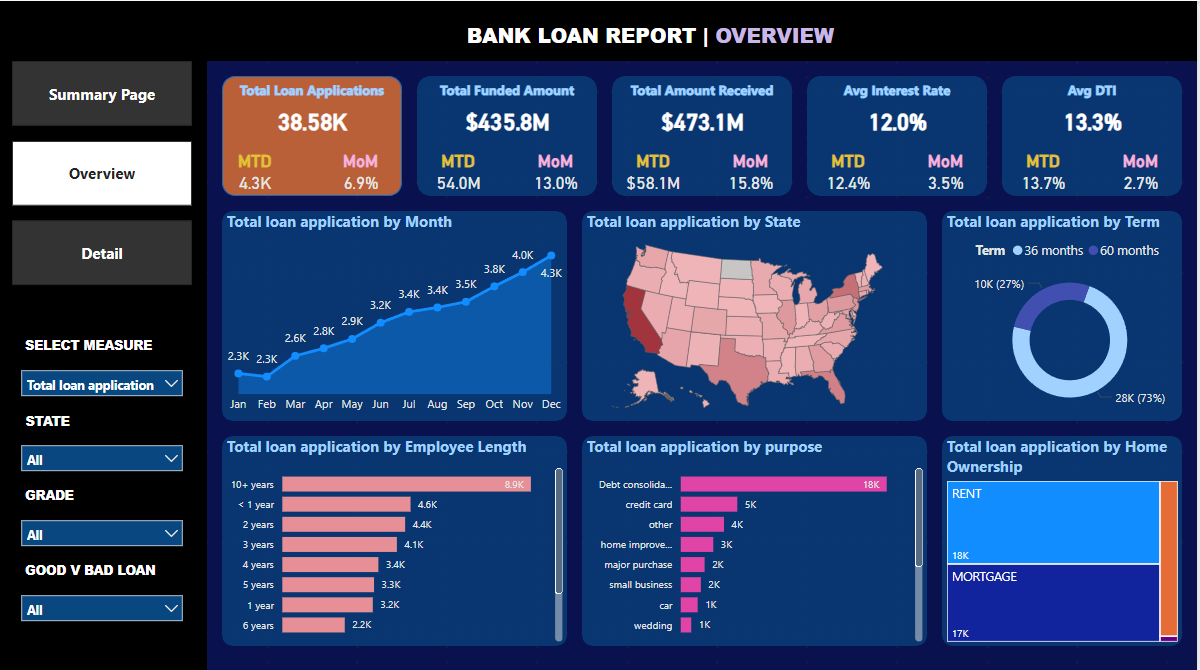

The dashboard page shown, as its layout file describes it:
{"tool":"powerbi","page":{"name":"Overview","canvas":[1280,720],"ordinal":1},"visuals":[{"type":"shape","box":[0,48,224,672],"z":0},{"type":"shape","box":[240,80,192,128],"z":0,"group":"g1"},{"type":"shape","box":[448,80,192,128],"z":0,"group":"g2"},{"type":"shape","box":[656,80,192,128],"z":0,"group":"g3"},{"type":"shape","box":[864,80,192,128],"z":0,"group":"g4"},{"type":"shape","box":[1072,80,192,128],"z":0,"group":"g5"},{"type":"shape","box":[240,224,368,224],"z":1000},{"type":"shape","box":[624,224,368,224],"z":2000},{"type":"shape","box":[0,0,1280,64],"z":3000},{"type":"textbox","box":[496,16,416,48],"z":4000},{"type":"card","fields":{"Values":["bank_loan.Total loan application"]},"box":[274.9,112,122.2,32],"z":4000,"group":"g1"},{"type":"card","fields":{"Values":["bank_loan.Total funded amount"]},"box":[482.9,112,122.2,32],"z":4000,"group":"g2"},{"type":"card","fields":{"Values":["bank_loan.Total amount received"]},"box":[690.9,112,122.2,32],"z":4000,"group":"g3"},{"type":"card","fields":{"Values":["bank_loan.avg int rate"]},"box":[898.9,112,122.2,32],"z":4000,"group":"g4"},{"type":"card","fields":{"Values":["bank_loan.Avg Dti"]},"box":[1106.9,112,122.2,32],"z":4000,"group":"g5"},{"type":"group","id":"g1","title":"Group 1","box":[240,80,192,128],"z":5000},{"type":"textbox","box":[240,80,192,32],"z":5000,"group":"g1"},{"type":"textbox","box":[448,80,192,32],"z":5000,"group":"g2"},{"type":"textbox","box":[656,80,192,32],"z":5000,"group":"g3"},{"type":"textbox","box":[864,80,192,32],"z":5000,"group":"g4"},{"type":"textbox","box":[1072,80,192,32],"z":5000,"group":"g5"},{"type":"group","id":"g2","title":"Group 2","box":[448,80,192,128],"z":6000},{"type":"card","title":"MTD","fields":{"Values":["bank_loan.MTD loan application"]},"box":[240,160,69.8,48],"z":6000,"group":"g1"},{"type":"card","title":"MTD","fields":{"Values":["bank_loan.MTD funded amount"]},"box":[448,160,87.3,48],"z":6000,"group":"g2"},{"type":"card","title":"MTD","fields":{"Values":["bank_loan.MTD amount received"]},"box":[656,160,87.3,48],"z":6000,"group":"g3"},{"type":"card","title":"MTD","fields":{"Values":["bank_loan.MTD int rate"]},"box":[864,160,87.3,48],"z":6000,"group":"g4"},{"type":"card","title":"MTD","fields":{"Values":["bank_loan.MTD dti"]},"box":[1072,160,87.3,48],"z":6000,"group":"g5"},{"type":"group","id":"g3","title":"Group 2","box":[656,80,192,128],"z":7000},{"type":"card","title":"MoM","fields":{"Values":["bank_loan.mom loan application"]},"box":[362.2,160,52.4,48],"z":7000,"group":"g1"},{"type":"card","title":"MoM","fields":{"Values":["bank_loan.mom funded amount"]},"box":[552.7,160,87.3,48],"z":7000,"group":"g2"},{"type":"card","title":"MoM","fields":{"Values":["bank_loan.mom amount received"]},"box":[760.7,160,87.3,48],"z":7000,"group":"g3"},{"type":"card","title":"MoM","fields":{"Values":["bank_loan.mom int rate"]},"box":[968.7,160,87.3,48],"z":7000,"group":"g4"},{"type":"card","title":"MoM","fields":{"Values":["bank_loan.mom dti"]},"box":[1176.7,160,87.3,48],"z":7000,"group":"g5"},{"type":"group","id":"g4","title":"Group 2","box":[864,80,192,128],"z":8000},{"type":"group","id":"g5","title":"Group 2","box":[1072,80,192,128],"z":9000},{"type":"slicer","fields":{"Values":["Select Measure.Select Measure"]},"box":[16,384,192,48],"z":10000},{"type":"textbox","box":[16,432,96,32],"z":11000},{"type":"textbox","box":[16,512,112,32],"z":12000},{"type":"textbox","box":[16,352,176,32],"z":13000},{"type":"textbox","box":[16,592,176,32],"z":13000},{"type":"slicer","fields":{"Values":["bank_loan.address_state"]},"box":[16,464,192,48],"z":14000},{"type":"slicer","fields":{"Values":["bank_loan.good v bad loan"]},"box":[16,624,192,48],"z":14000},{"type":"slicer","fields":{"Values":["bank_loan.grade"]},"box":[16,544,192,48],"z":15000},{"type":"areaChart","fields":{"Y":["bank_loan.Total loan application"],"Category":["Date Table.Month"]},"box":[240,224,368,224],"z":17000},{"type":"shapeMap","fields":{"Value":["bank_loan.Total loan application"],"Category":["bank_loan.address_state"]},"box":[624,224,352,224],"z":18000},{"type":"shape","box":[1008,224,256,224],"z":19000},{"type":"donutChart","fields":{"Y":["bank_loan.Total loan application"],"Category":["bank_loan.term"]},"box":[1008,224,272,224],"z":20000},{"type":"shape","box":[240,464,368,224],"z":21000},{"type":"barChart","fields":{"Y":["bank_loan.Total loan application"],"Category":["bank_loan.emp_length"]},"box":[240,464,368,224],"z":22000},{"type":"shape","box":[624,464,368,224],"z":23000},{"type":"barChart","fields":{"Y":["bank_loan.Total loan application"],"Category":["bank_loan.purpose"]},"box":[624,464,368,224],"z":24000},{"type":"shape","box":[1008,464,256,224],"z":25000},{"type":"treemap","fields":{"Values":["bank_loan.Total loan application"],"Group":["bank_loan.home_ownership"]},"box":[1008,464,256,224],"z":26000},{"type":"pageNavigator","box":[16,64,192,240],"z":26001}]}

Visuals, with their boxes in screenshot pixels (x1, y1, x2, y2), scaled from the page's 1280x720 canvas onto the 1200x670 screenshot:
shape: (left=0, top=45, right=210, bottom=669)
shape: (left=225, top=74, right=405, bottom=194)
shape: (left=420, top=74, right=600, bottom=194)
shape: (left=615, top=74, right=795, bottom=194)
shape: (left=810, top=74, right=990, bottom=194)
shape: (left=1005, top=74, right=1185, bottom=194)
shape: (left=225, top=208, right=570, bottom=417)
shape: (left=585, top=208, right=930, bottom=417)
shape: (left=0, top=0, right=1199, bottom=60)
textbox: (left=465, top=15, right=855, bottom=60)
card - bank_loan.Total loan application: (left=258, top=104, right=372, bottom=134)
card - bank_loan.Total funded amount: (left=453, top=104, right=567, bottom=134)
card - bank_loan.Total amount received: (left=648, top=104, right=762, bottom=134)
card - bank_loan.avg int rate: (left=843, top=104, right=957, bottom=134)
card - bank_loan.Avg Dti: (left=1038, top=104, right=1152, bottom=134)
"Group 1" group: (left=225, top=74, right=405, bottom=194)
textbox: (left=225, top=74, right=405, bottom=104)
textbox: (left=420, top=74, right=600, bottom=104)
textbox: (left=615, top=74, right=795, bottom=104)
textbox: (left=810, top=74, right=990, bottom=104)
textbox: (left=1005, top=74, right=1185, bottom=104)
"Group 2" group: (left=420, top=74, right=600, bottom=194)
"MTD" card: (left=225, top=149, right=290, bottom=194)
"MTD" card: (left=420, top=149, right=502, bottom=194)
"MTD" card: (left=615, top=149, right=697, bottom=194)
"MTD" card: (left=810, top=149, right=892, bottom=194)
"MTD" card: (left=1005, top=149, right=1087, bottom=194)
"Group 2" group: (left=615, top=74, right=795, bottom=194)
"MoM" card: (left=340, top=149, right=389, bottom=194)
"MoM" card: (left=518, top=149, right=600, bottom=194)
"MoM" card: (left=713, top=149, right=795, bottom=194)
"MoM" card: (left=908, top=149, right=990, bottom=194)
"MoM" card: (left=1103, top=149, right=1185, bottom=194)
"Group 2" group: (left=810, top=74, right=990, bottom=194)
"Group 2" group: (left=1005, top=74, right=1185, bottom=194)
slicer - Select Measure.Select Measure: (left=15, top=357, right=195, bottom=402)
textbox: (left=15, top=402, right=105, bottom=432)
textbox: (left=15, top=476, right=120, bottom=506)
textbox: (left=15, top=328, right=180, bottom=357)
textbox: (left=15, top=551, right=180, bottom=581)
slicer - bank_loan.address_state: (left=15, top=432, right=195, bottom=476)
slicer - bank_loan.good v bad loan: (left=15, top=581, right=195, bottom=625)
slicer - bank_loan.grade: (left=15, top=506, right=195, bottom=551)
areaChart - bank_loan.Total loan application x Date Table.Month: (left=225, top=208, right=570, bottom=417)
shapeMap - bank_loan.Total loan application x bank_loan.address_state: (left=585, top=208, right=915, bottom=417)
shape: (left=945, top=208, right=1185, bottom=417)
donutChart - bank_loan.Total loan application x bank_loan.term: (left=945, top=208, right=1199, bottom=417)
shape: (left=225, top=432, right=570, bottom=640)
barChart - bank_loan.Total loan application x bank_loan.emp_length: (left=225, top=432, right=570, bottom=640)
shape: (left=585, top=432, right=930, bottom=640)
barChart - bank_loan.Total loan application x bank_loan.purpose: (left=585, top=432, right=930, bottom=640)
shape: (left=945, top=432, right=1185, bottom=640)
treemap - bank_loan.Total loan application x bank_loan.home_ownership: (left=945, top=432, right=1185, bottom=640)
pageNavigator: (left=15, top=60, right=195, bottom=283)
